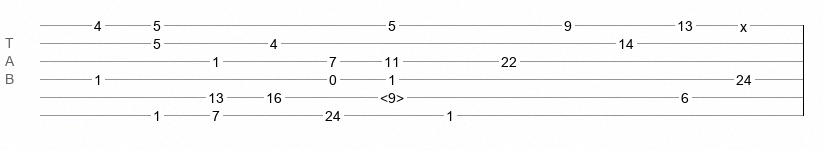0: (329, 72, 337, 82)
1: (94, 72, 102, 82), (153, 108, 161, 118), (212, 54, 220, 64), (388, 72, 396, 82), (446, 108, 454, 118)
11: (384, 54, 400, 64)
13: (208, 90, 224, 100), (677, 18, 693, 28)
14: (618, 36, 634, 46)
16: (266, 90, 282, 100)
22: (501, 54, 517, 64)
24: (325, 108, 341, 118), (736, 72, 752, 82)
4: (94, 18, 102, 28), (270, 36, 278, 46)
5: (153, 18, 161, 28), (153, 36, 161, 46), (388, 18, 396, 28)
6: (681, 90, 689, 100)
7: (212, 108, 220, 118), (329, 54, 337, 64)
9: (564, 18, 572, 28)
harmonic: (380, 90, 404, 100)
x: (740, 19, 747, 27)
